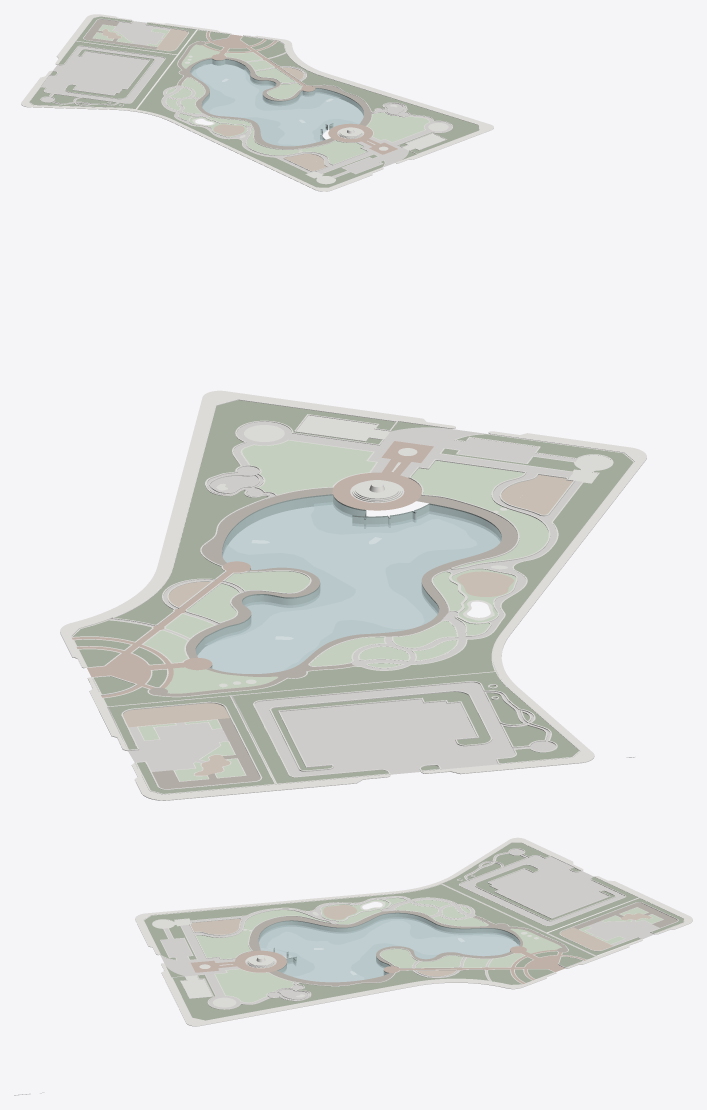
3 renders of one model, top to bottom at view 1: azimuth 30°, elevation 25°; view 2: azimuth 150°, elevation 25°; view 3: azimuth 270°, elevation 25°, orthographic. The views are drawn at different scales.
Visible parts, largest first — view 1: Mesh12 Group1 Model_1 Mesh12 Group1 Model_7 Mesh12 Group1 Mo, Mesh12 Group1 Model_3 Mesh12 Group1 Model_5 Mesh12 Group1 Mo, Mesh1 Group2 Group1 Model Mesh2 Group2 Group1 Model Mesh3 Gr, Mesh11 Group3 Group1 Model Mesh12 Group1 Model Mesh12 Group1, Mesh12 Group1 Model_249 Mesh12 Group1 Model_253 Mesh12 Group, Mesh12 Group1 Model_53 Mesh12 Group1 Model_72 Mesh12 Group1 , Mesh12 Group1 Model_151 Mesh12 Group1 Model_160 Mesh12 Group, Mesh12 Group1 Model_135 Mesh12 Group1 Model_139 Mesh12 Group, Mesh12 Group1 Model_261 Mesh12 Group1 Model_263 Mesh12 Group, Mesh12 Group1 Model_323 Mesh12 Group1 Model_338 Mesh12 Group; view 2: Mesh12 Group1 Model_1 Mesh12 Group1 Model_7 Mesh12 Group1 Mo, Mesh12 Group1 Model_3 Mesh12 Group1 Model_5 Mesh12 Group1 Mo, Mesh1 Group2 Group1 Model Mesh2 Group2 Group1 Model Mesh3 Gr, Mesh11 Group3 Group1 Model Mesh12 Group1 Model Mesh12 Group1, Mesh12 Group1 Model_249 Mesh12 Group1 Model_253 Mesh12 Group, Mesh12 Group1 Model_53 Mesh12 Group1 Model_72 Mesh12 Group1 , Mesh12 Group1 Model_151 Mesh12 Group1 Model_160 Mesh12 Group, Mesh12 Group1 Model_135 Mesh12 Group1 Model_139 Mesh12 Group, Mesh12 Group1 Model_261 Mesh12 Group1 Model_263 Mesh12 Group, Mesh12 Group1 Model_323 Mesh12 Group1 Model_338 Mesh12 Group; view 3: Mesh12 Group1 Model_1 Mesh12 Group1 Model_7 Mesh12 Group1 Mo, Mesh12 Group1 Model_3 Mesh12 Group1 Model_5 Mesh12 Group1 Mo, Mesh1 Group2 Group1 Model Mesh2 Group2 Group1 Model Mesh3 Gr, Mesh11 Group3 Group1 Model Mesh12 Group1 Model Mesh12 Group1, Mesh12 Group1 Model_249 Mesh12 Group1 Model_253 Mesh12 Group, Mesh12 Group1 Model_53 Mesh12 Group1 Model_72 Mesh12 Group1 , Mesh12 Group1 Model_151 Mesh12 Group1 Model_160 Mesh12 Group, Mesh12 Group1 Model_135 Mesh12 Group1 Model_139 Mesh12 Group, Mesh12 Group1 Model_261 Mesh12 Group1 Model_263 Mesh12 Group, Mesh12 Group1 Model_323 Mesh12 Group1 Model_338 Mesh12 Group.
Boxes of the visible parts, box(x1,y1,x2,y2) form: Mesh12 Group1 Model_1 Mesh12 Group1 Model_7 Mesh12 Group1 Mo: box(30, 16, 479, 187); Mesh12 Group1 Model_3 Mesh12 Group1 Model_5 Mesh12 Group1 Mo: box(41, 21, 452, 177); Mesh1 Group2 Group1 Model Mesh2 Group2 Group1 Model Mesh3 Gr: box(190, 59, 363, 146); Mesh11 Group3 Group1 Model Mesh12 Group1 Model Mesh12 Group1: box(29, 16, 479, 187); Mesh12 Group1 Model_249 Mesh12 Group1 Model_253 Mesh12 Group: box(93, 24, 428, 164); Mesh12 Group1 Model_53 Mesh12 Group1 Model_72 Mesh12 Group1 : box(21, 14, 493, 191); Mesh12 Group1 Model_151 Mesh12 Group1 Model_160 Mesh12 Group: box(84, 19, 371, 149); Mesh12 Group1 Model_135 Mesh12 Group1 Model_139 Mesh12 Group: box(202, 31, 397, 154); Mesh12 Group1 Model_261 Mesh12 Group1 Model_263 Mesh12 Group: box(102, 28, 326, 171); Mesh12 Group1 Model_323 Mesh12 Group1 Model_338 Mesh12 Group: box(190, 58, 363, 140); Mesh12 Group1 Model_1 Mesh12 Group1 Model_7 Mesh12 Group1 Mo: box(73, 400, 633, 793); Mesh12 Group1 Model_3 Mesh12 Group1 Model_5 Mesh12 Group1 Mo: box(109, 421, 581, 776); Mesh1 Group2 Group1 Model Mesh2 Group2 Group1 Model Mesh3 Gr: box(195, 495, 501, 673); Mesh11 Group3 Group1 Model Mesh12 Group1 Model Mesh12 Group1: box(71, 399, 634, 794); Mesh12 Group1 Model_249 Mesh12 Group1 Model_253 Mesh12 Group: box(138, 440, 548, 781); Mesh12 Group1 Model_53 Mesh12 Group1 Model_72 Mesh12 Group1 : box(60, 390, 646, 800); Mesh12 Group1 Model_151 Mesh12 Group1 Model_160 Mesh12 Group: box(149, 487, 517, 788); Mesh12 Group1 Model_135 Mesh12 Group1 Model_139 Mesh12 Group: box(72, 441, 433, 697); Mesh12 Group1 Model_261 Mesh12 Group1 Model_263 Mesh12 Group: box(123, 475, 572, 775); Mesh12 Group1 Model_323 Mesh12 Group1 Model_338 Mesh12 Group: box(195, 494, 501, 668); Mesh12 Group1 Model_1 Mesh12 Group1 Model_7 Mesh12 Group1 Mo: box(144, 842, 683, 1020); Mesh12 Group1 Model_3 Mesh12 Group1 Model_5 Mesh12 Group1 Mo: box(160, 849, 659, 1008); Mesh1 Group2 Group1 Model Mesh2 Group2 Group1 Model Mesh3 Gr: box(258, 913, 519, 982); Mesh11 Group3 Group1 Model Mesh12 Group1 Model Mesh12 Group1: box(14, 842, 684, 1095); Mesh12 Group1 Model_249 Mesh12 Group1 Model_253 Mesh12 Group: box(196, 898, 662, 1002); Mesh12 Group1 Model_53 Mesh12 Group1 Model_72 Mesh12 Group1 : box(40, 837, 692, 1093); Mesh12 Group1 Model_151 Mesh12 Group1 Model_160 Mesh12 Group: box(249, 903, 677, 985); Mesh12 Group1 Model_135 Mesh12 Group1 Model_139 Mesh12 Group: box(191, 946, 585, 983); Mesh12 Group1 Model_261 Mesh12 Group1 Model_263 Mesh12 Group: box(191, 905, 651, 976); Mesh12 Group1 Model_323 Mesh12 Group1 Model_338 Mesh12 Group: box(258, 912, 520, 975).
Bounding box in the file's own units: 371266 × 6611 × 400585.
